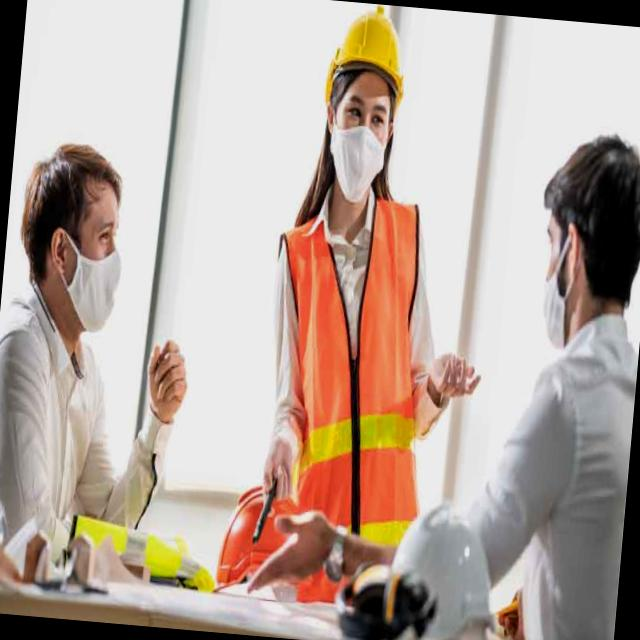helmet: (322, 0, 422, 121)
no-goggles: (335, 83, 398, 132), (88, 220, 123, 252)
no-helmet: (30, 111, 120, 199)
no-vest: (0, 294, 156, 580)
vest: (242, 172, 473, 570)
